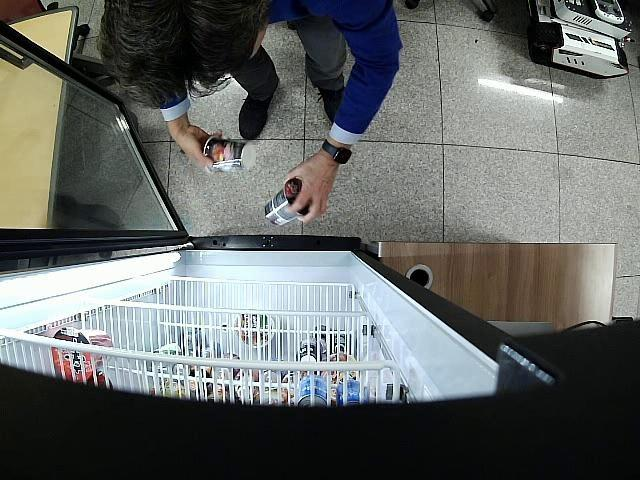08_buldak_S: (264, 178, 310, 226), (204, 136, 258, 171)
